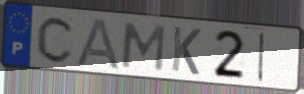2: (212, 29, 249, 82)
A: (74, 17, 122, 72)
C: (35, 14, 77, 65)
I: (255, 30, 268, 83)
K: (169, 24, 203, 78)
M: (119, 20, 168, 74)
